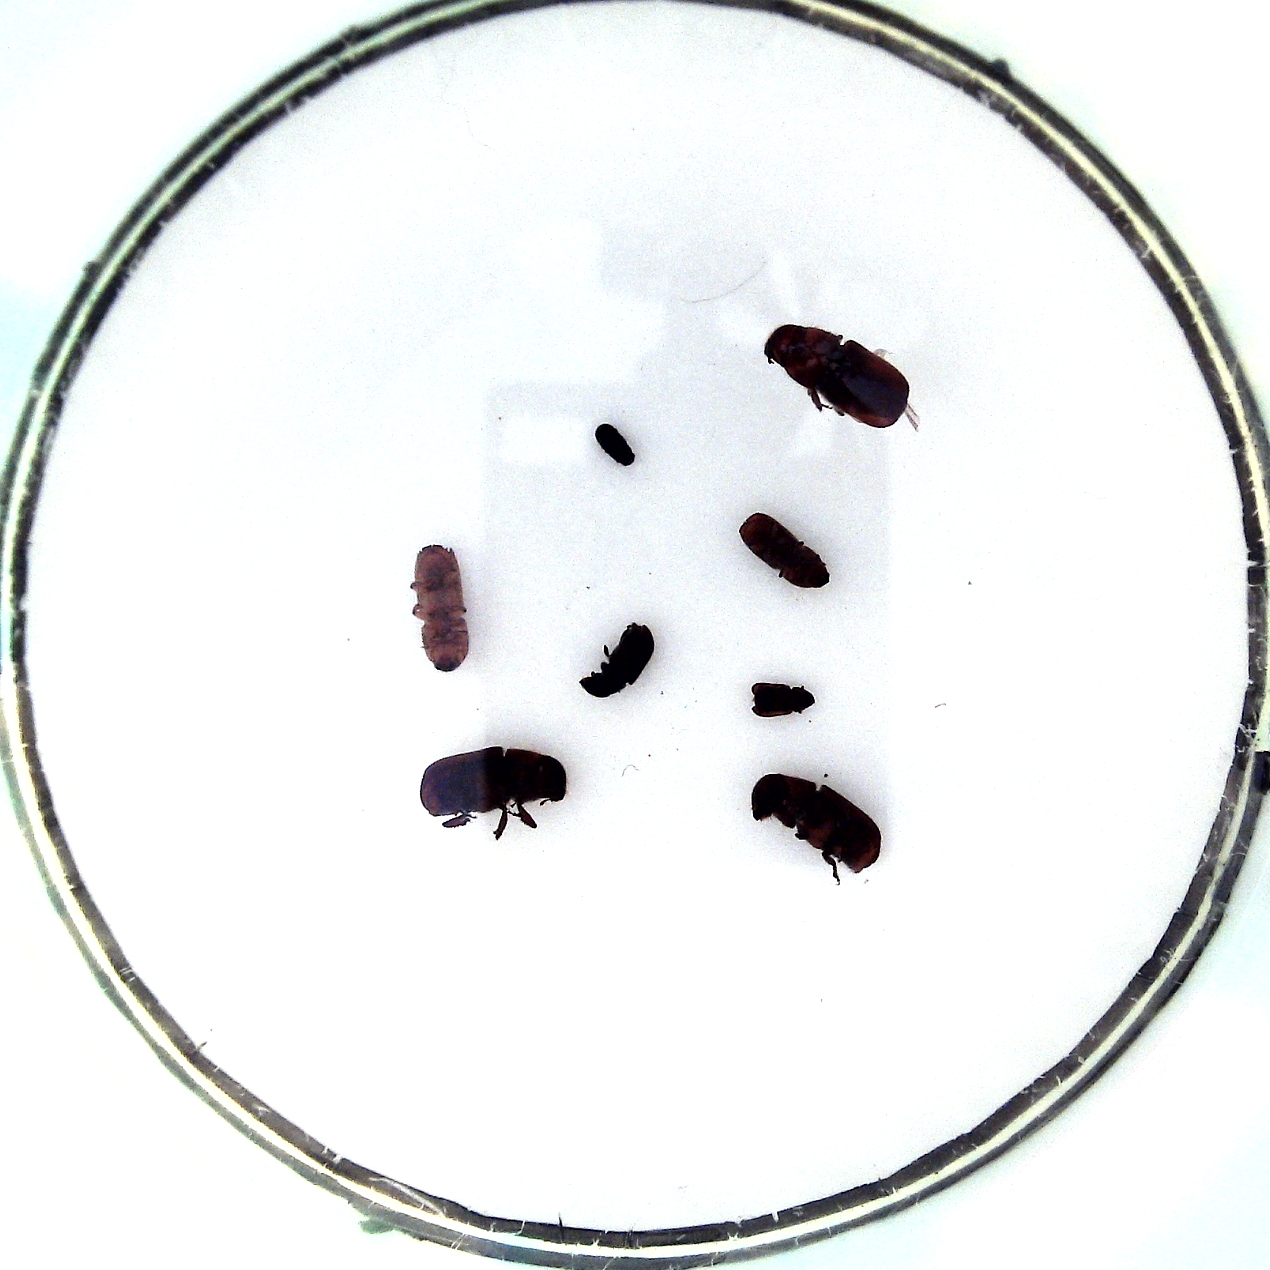Boerner: (413, 543, 470, 671)
Leconte: (764, 324, 911, 429), (750, 773, 889, 875), (419, 748, 568, 816)
acuminatus: (594, 423, 636, 466)
armandi: (579, 625, 654, 697)
coleoptera: (750, 682, 814, 718)
linnaeus: (739, 513, 830, 588)
